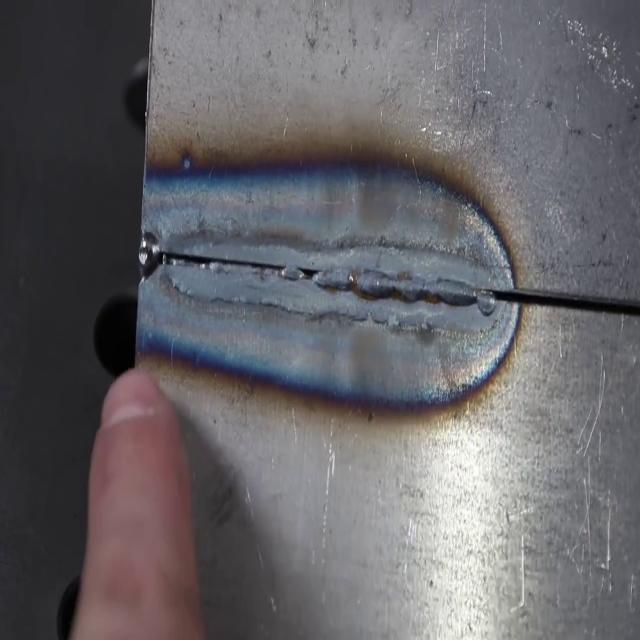Crack: (147, 234, 634, 311)
